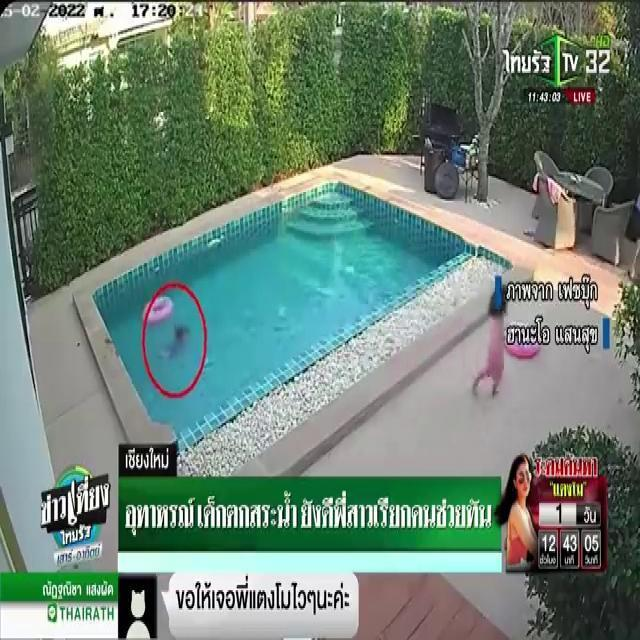Out of Water: (154, 324, 193, 380)
